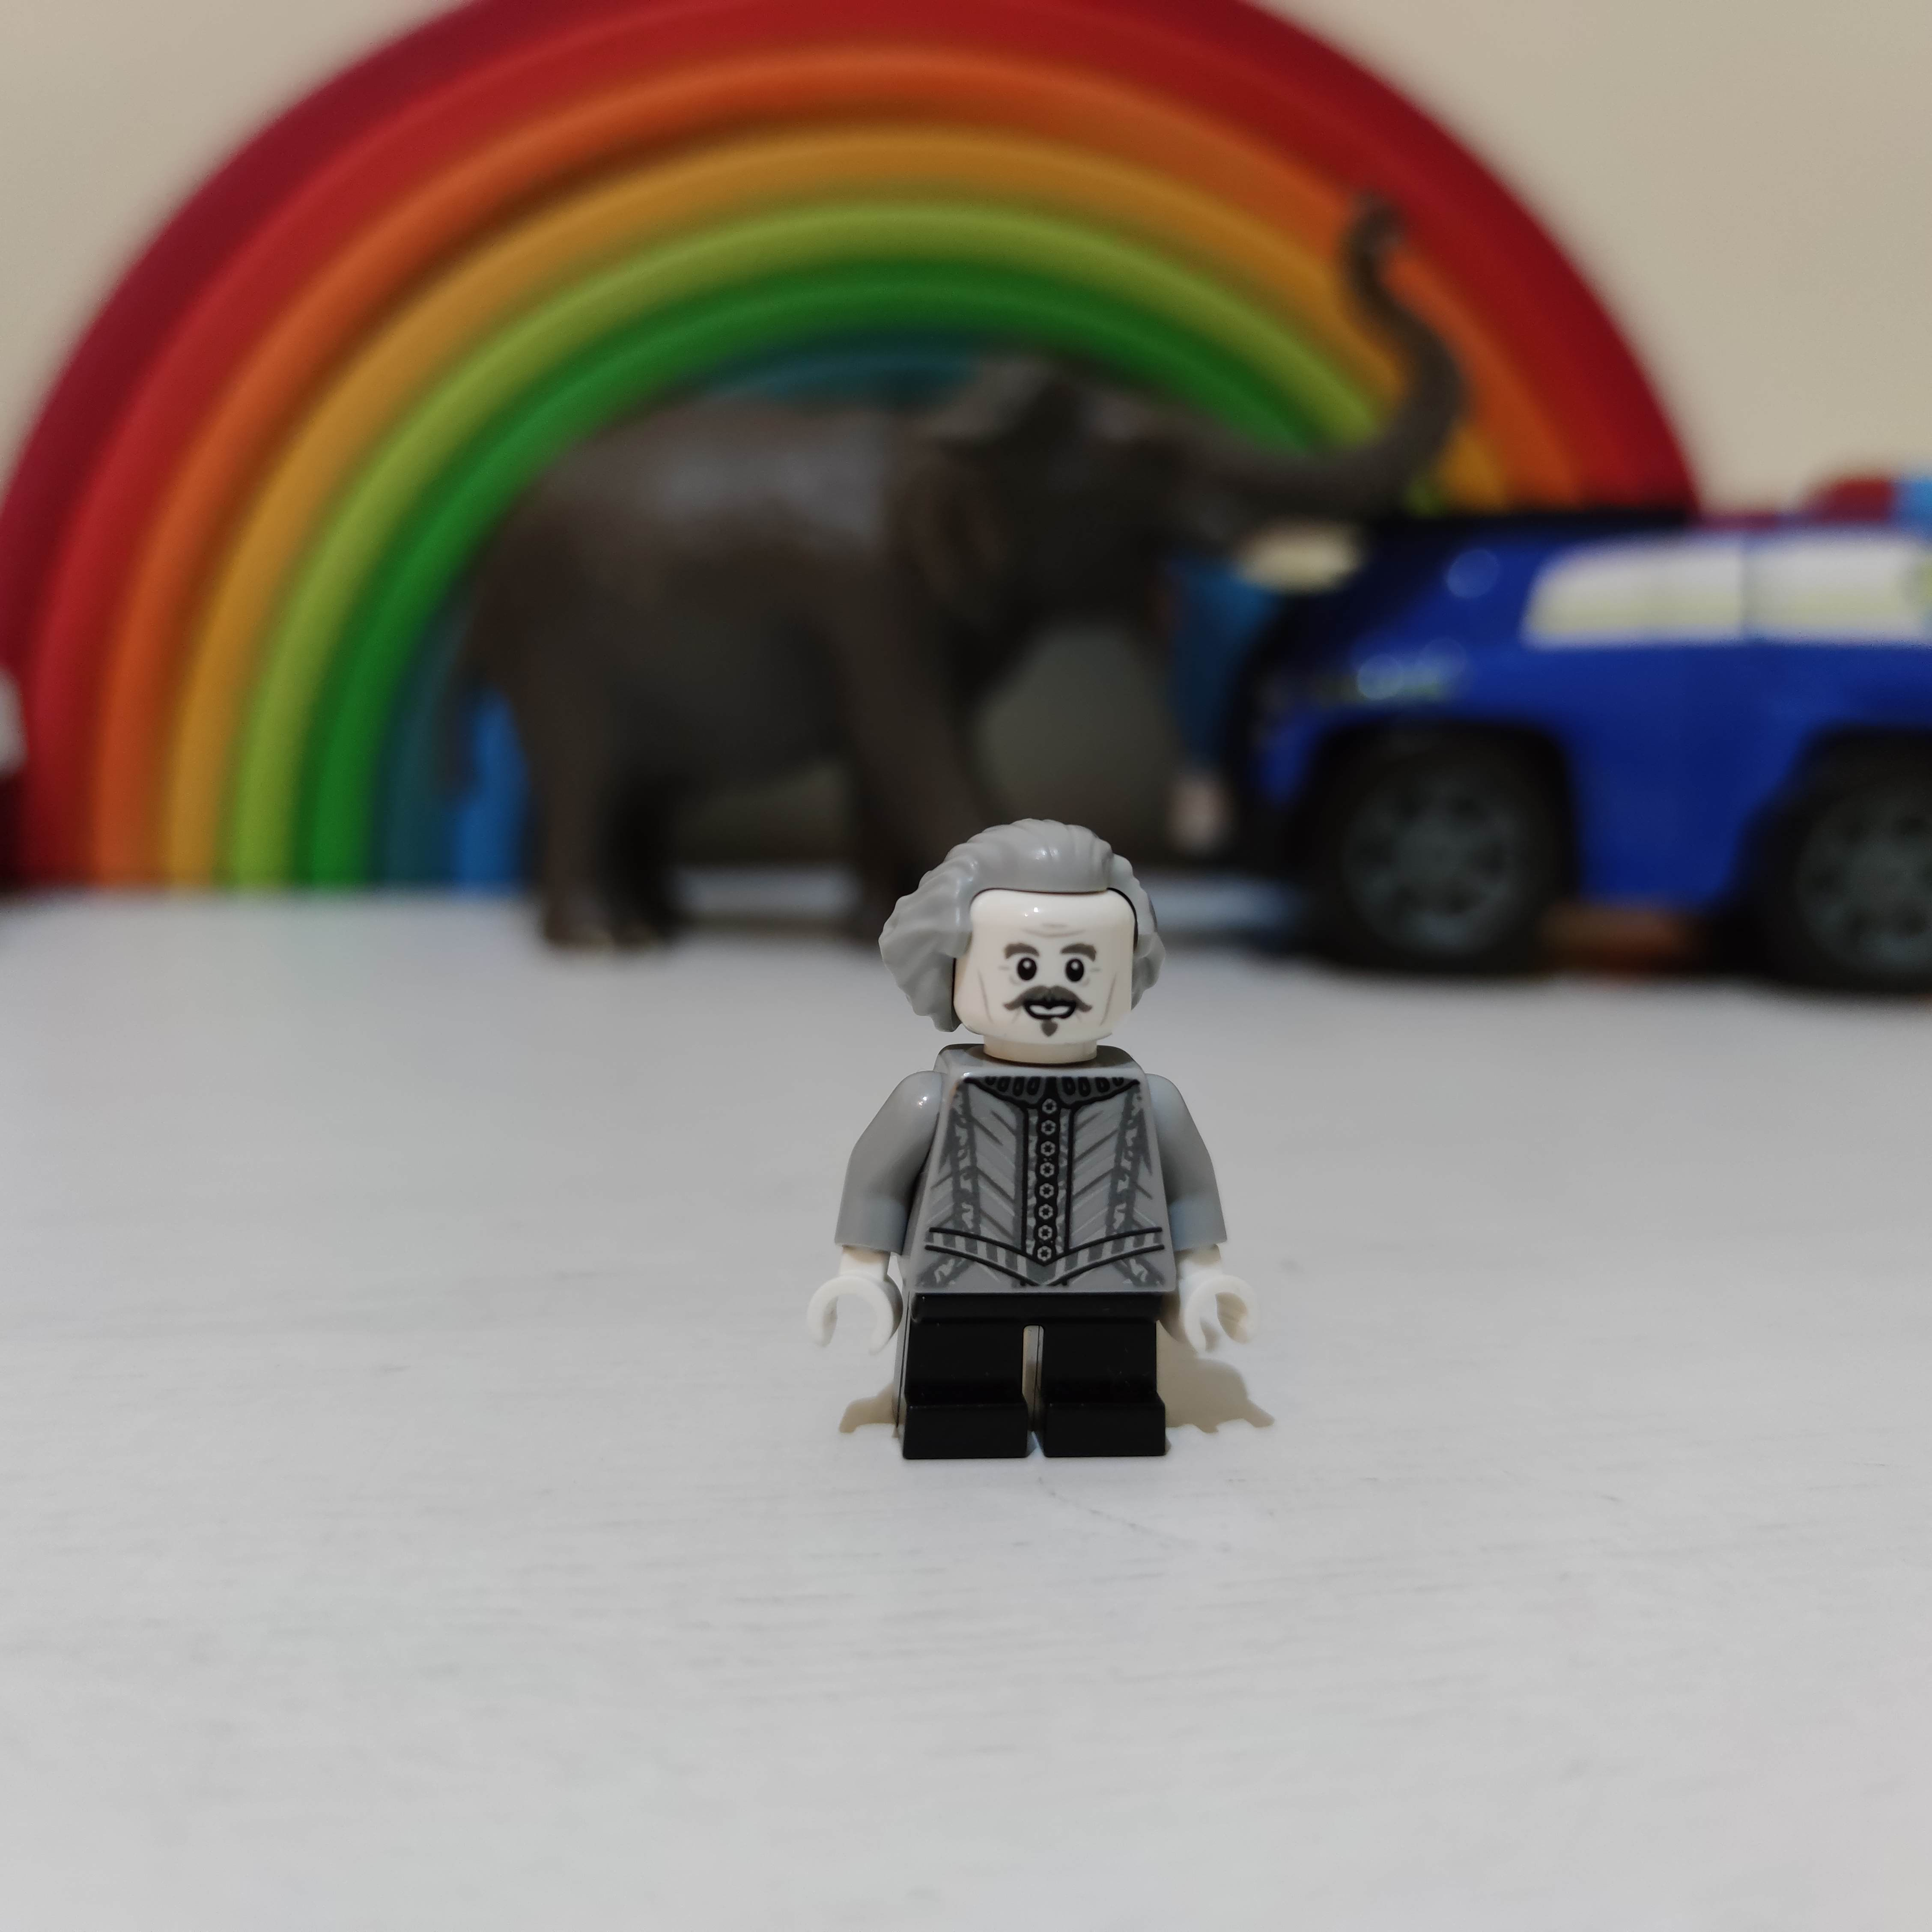lego: (810, 807, 1269, 1463)
